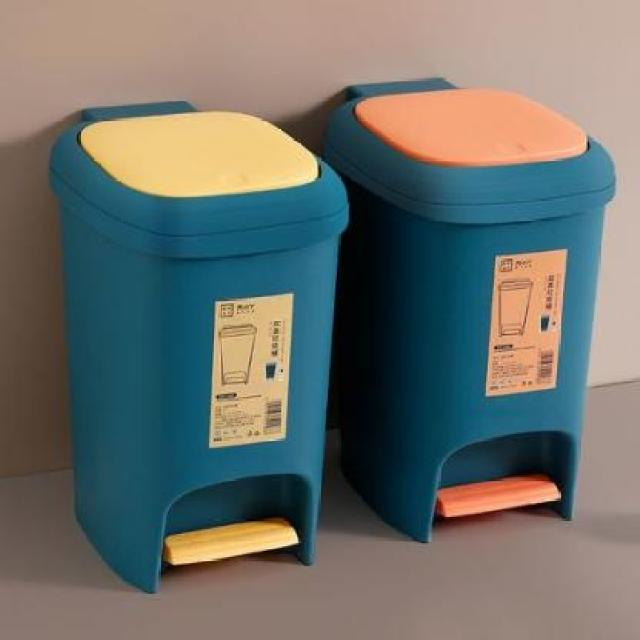dustbin: (41, 91, 358, 601), (325, 71, 622, 549)
